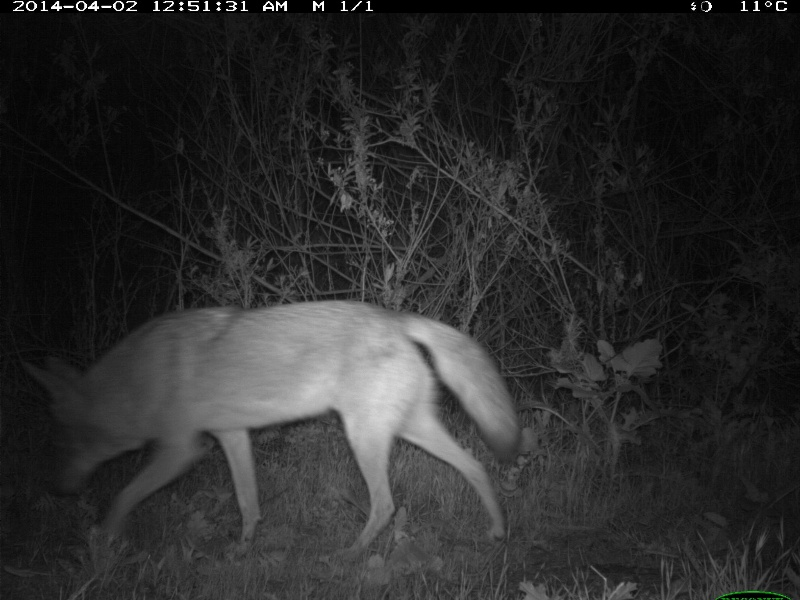coyote: (22, 304, 525, 558)
